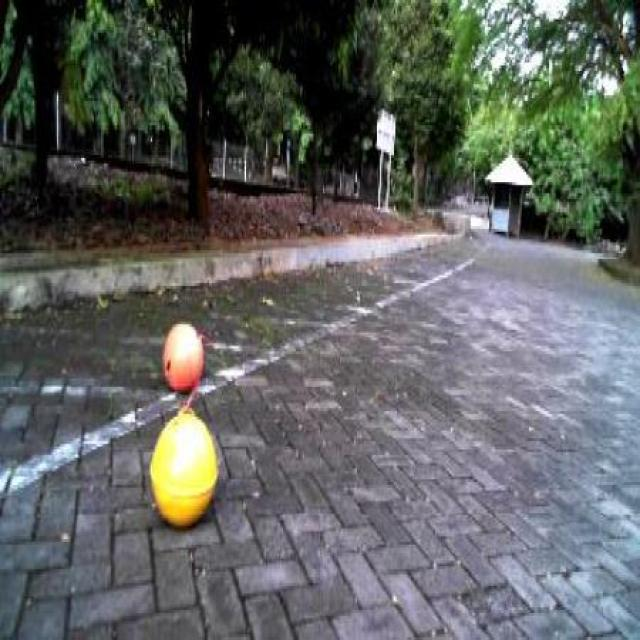buoy: (142, 398, 224, 546), (158, 311, 205, 394)
